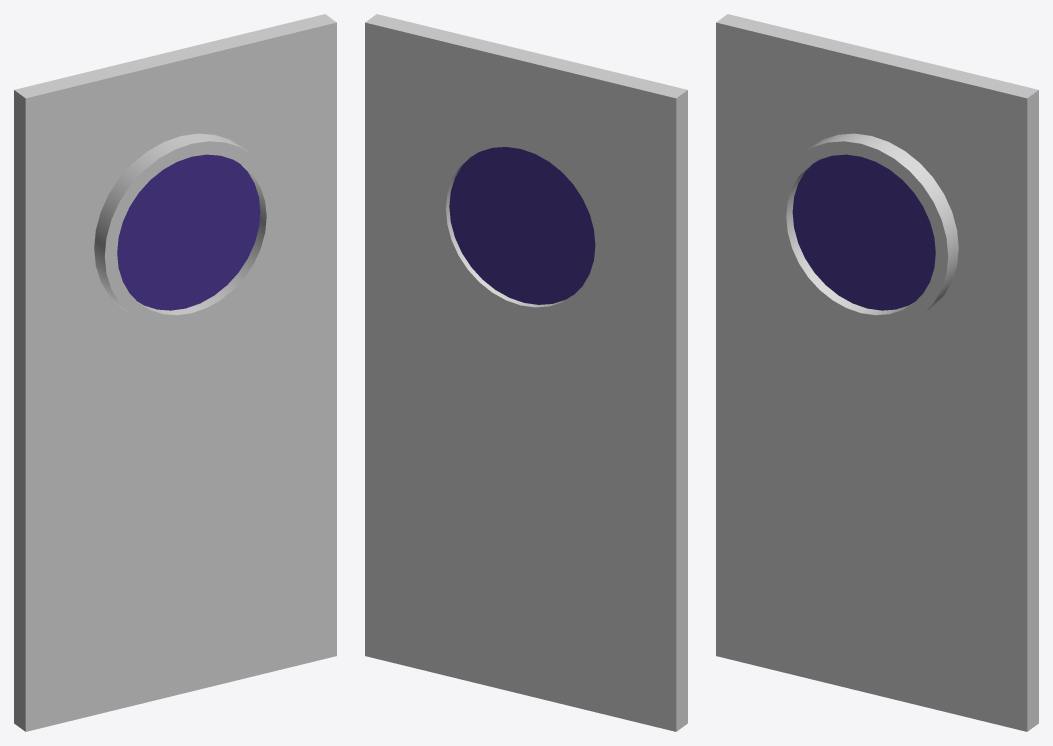
Rendered from MESH_backdoor_V03.fbx.
The picture shows the model from 3 angles, left to right: view 1: azimuth 30°, elevation 25°; view 2: azimuth 150°, elevation 25°; view 3: azimuth 330°, elevation 25°; orthographic projection.
Parts seen in each view (by area): view 1: Porte arriere metro; view 2: Porte arriere metro; view 3: Porte arriere metro.
Boxes of the visible parts, x1,y1,x2,y2 form: Porte arriere metro: (14,14,336,731); Porte arriere metro: (365,14,687,731); Porte arriere metro: (716,14,1038,731).
Size of the model in its own units: 144 by 17.8 by 279.
